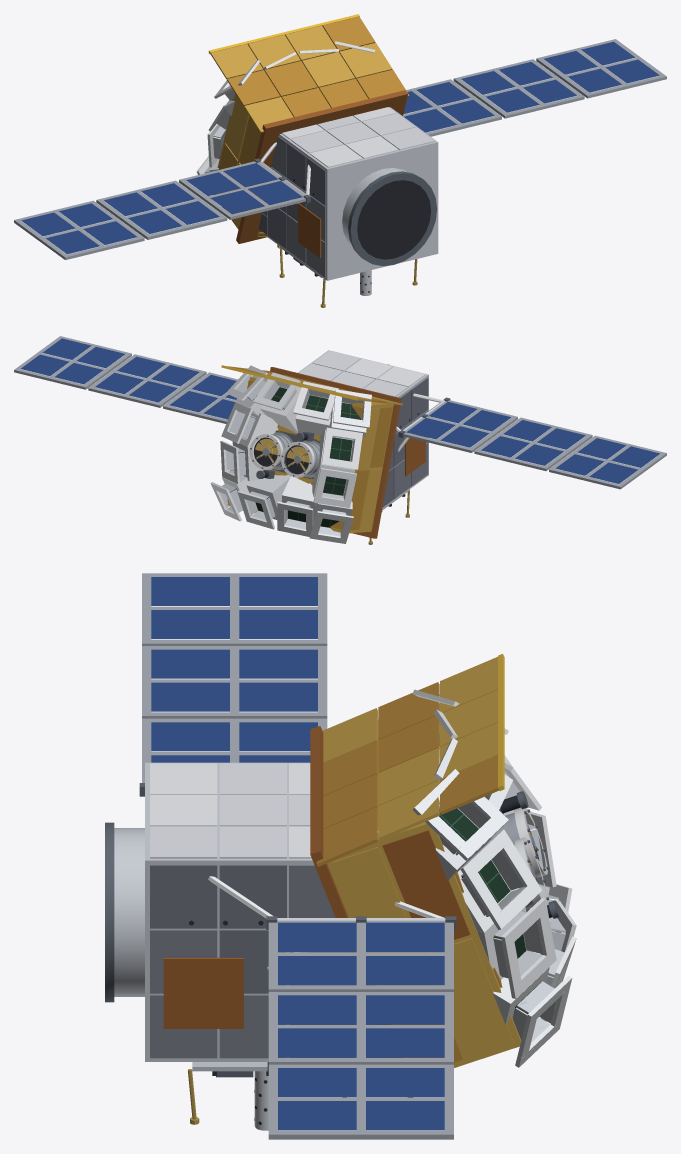
The model's file is einstein-probe.glb.
The picture shows the model from 3 angles, top to bottom: view 1: azimuth 30°, elevation 25°; view 2: azimuth 150°, elevation 25°; view 3: azimuth 270°, elevation 25°; orthographic projection. The views are drawn at different scales.
Visible parts, largest first — view 1: body, foil, solar-panel; view 2: body, solar-panel, foil; view 3: body, solar-panel, foil.
Boxes of the visible parts, x1,y1,x2,y2 form: body: (14, 39, 666, 307); foil: (208, 14, 409, 258); solar-panel: (21, 41, 659, 254); body: (14, 336, 666, 544); solar-panel: (21, 338, 660, 527); foil: (221, 365, 425, 538); body: (105, 573, 576, 1139); solar-panel: (151, 577, 542, 1130); foil: (163, 653, 535, 1097).
Bounding box in the file's own units: 8.6 × 2.8 × 3.06.
